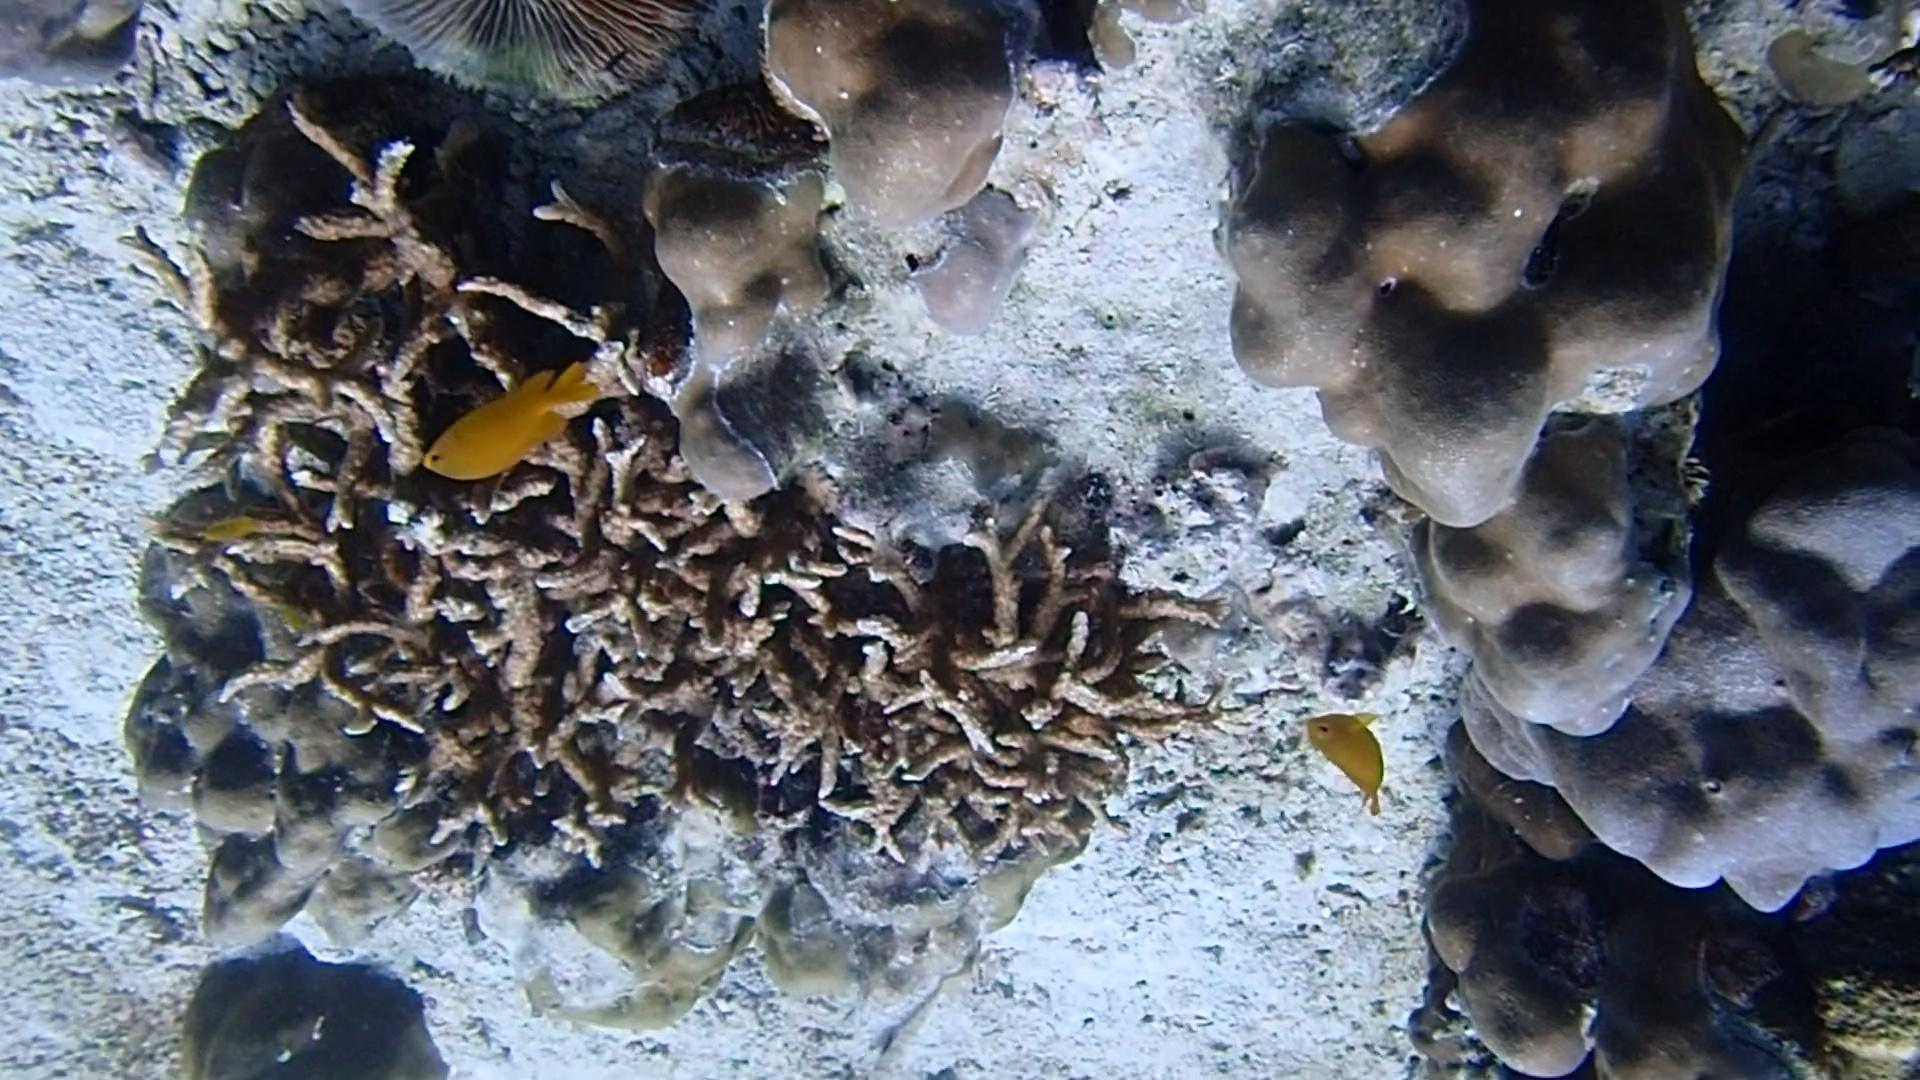Yellow Fish: (419, 349, 601, 492), (1296, 696, 1393, 823), (198, 501, 268, 549)
